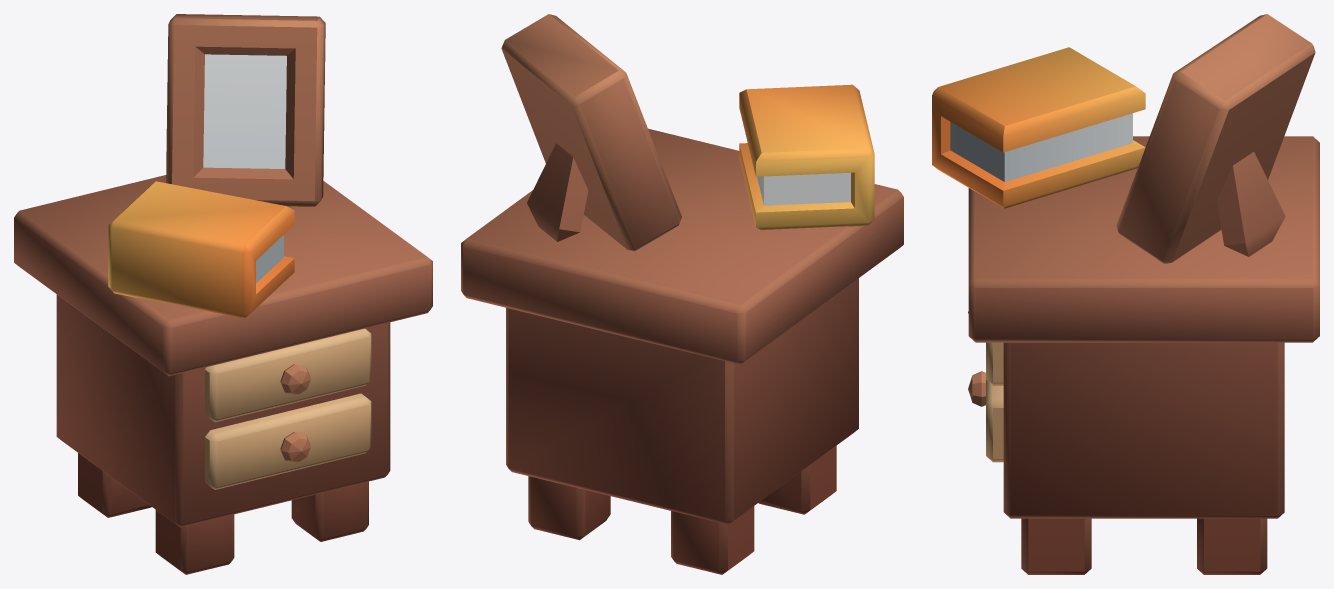
Rendered from cabinet_small_decorated.glb.
3 renders of one model, left to right at view 1: azimuth 30°, elevation 25°; view 2: azimuth 150°, elevation 25°; view 3: azimuth 270°, elevation 25°, orthographic. The views are drawn at different scales.
Parts seen in each view (by area): view 1: cabinet_small_decorated; view 2: cabinet_small_decorated; view 3: cabinet_small_decorated.
Part boxes in pixels (x1,y1,x2,y2): cabinet_small_decorated: (14, 14, 432, 574); cabinet_small_decorated: (461, 14, 903, 574); cabinet_small_decorated: (932, 14, 1319, 574).
Bounding box in the file's own units: 1.05 × 1.62 × 1.1.
Materials: 1 (1 with a texture image).
